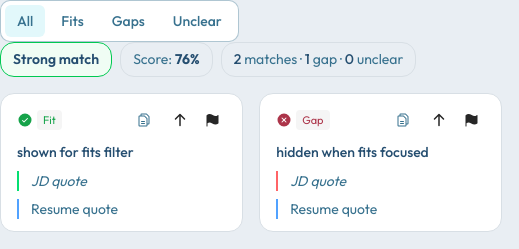
Test: MatchTabContent › shows only Fits when Fits tab selected
Step 1. Click the tab "Fits" → {"x": 72, "y": 21}, box [49,5,96,37]
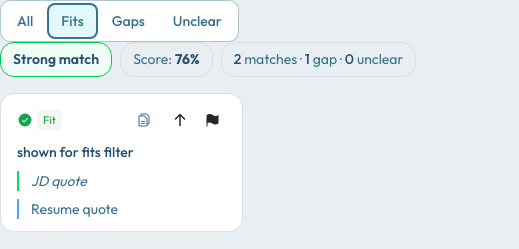
Check: the text "shown for fits filter" is shown, box [17,143,134,161]
Check: the text "hidden when fits focused" is gone
